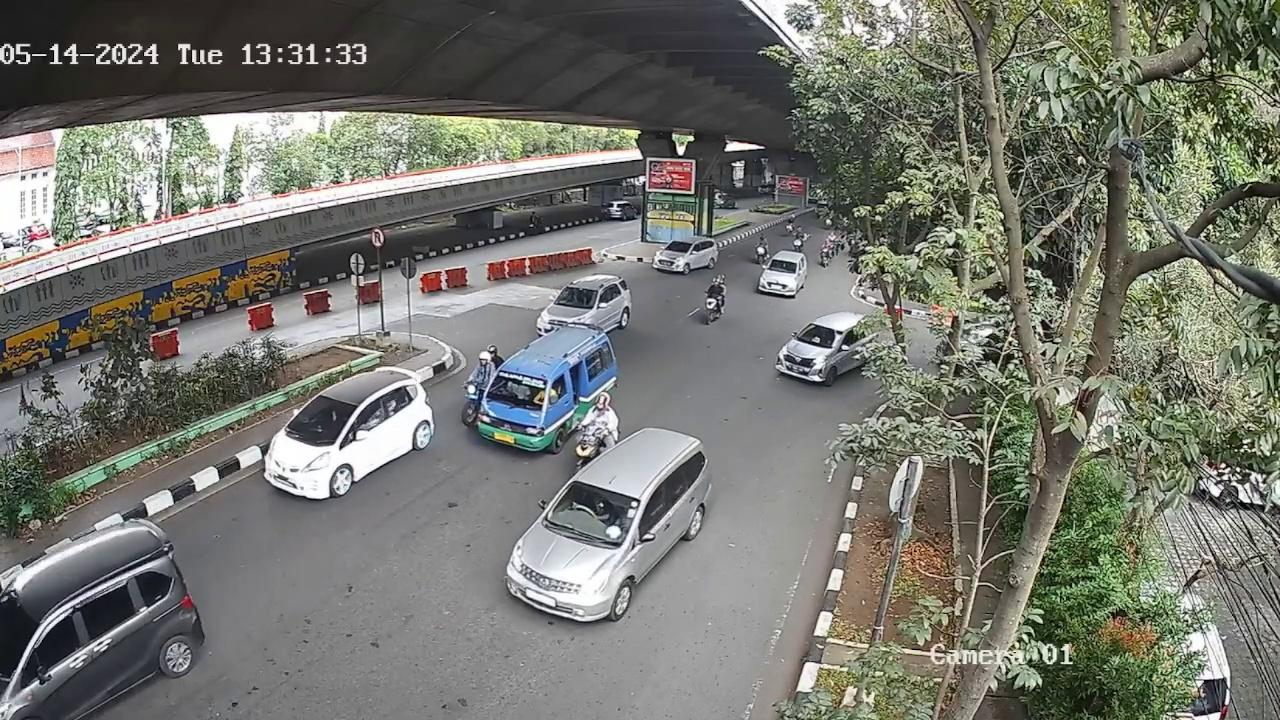tidak-pakai: (505, 379, 528, 400)
windshield: (546, 475, 642, 547), (282, 394, 358, 447), (485, 367, 550, 415), (795, 316, 844, 352), (550, 290, 599, 307)
